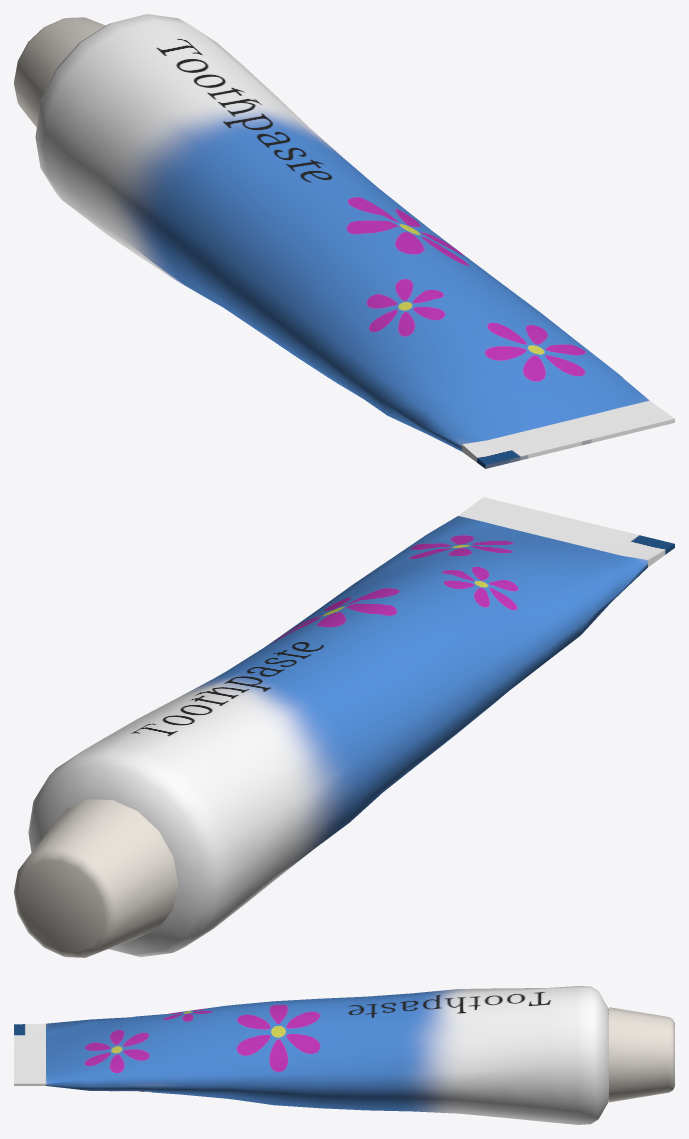
File: Toothpaste_LOD1.fbx
The picture shows the model from 3 angles, top to bottom: view 1: azimuth 30°, elevation 25°; view 2: azimuth 150°, elevation 25°; view 3: azimuth 270°, elevation 25°; orthographic projection. The views are drawn at different scales.
Parts seen in each view (by area): view 1: Tube_LOD1, Cap_LOD1; view 2: Tube_LOD1, Cap_LOD1; view 3: Tube_LOD1, Cap_LOD1.
Part boxes in pixels (box(x1,y1,x2,y2)): Tube_LOD1: box(35, 14, 674, 468); Cap_LOD1: box(14, 17, 105, 127); Tube_LOD1: box(28, 497, 674, 957); Cap_LOD1: box(14, 799, 178, 957); Tube_LOD1: box(14, 986, 608, 1124); Cap_LOD1: box(608, 1007, 674, 1102).
Bounding box in the file's own units: 0.0293 × 0.128 × 0.0265.
